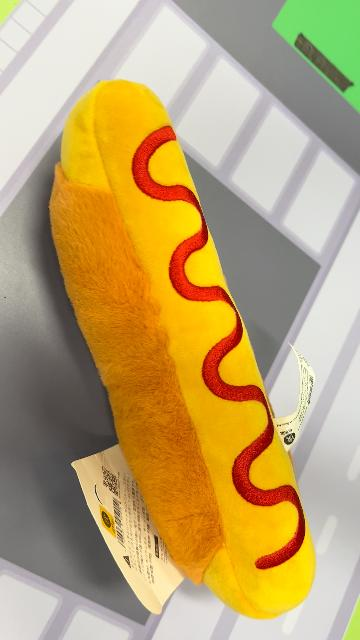hotdog: (48, 79, 318, 622)
